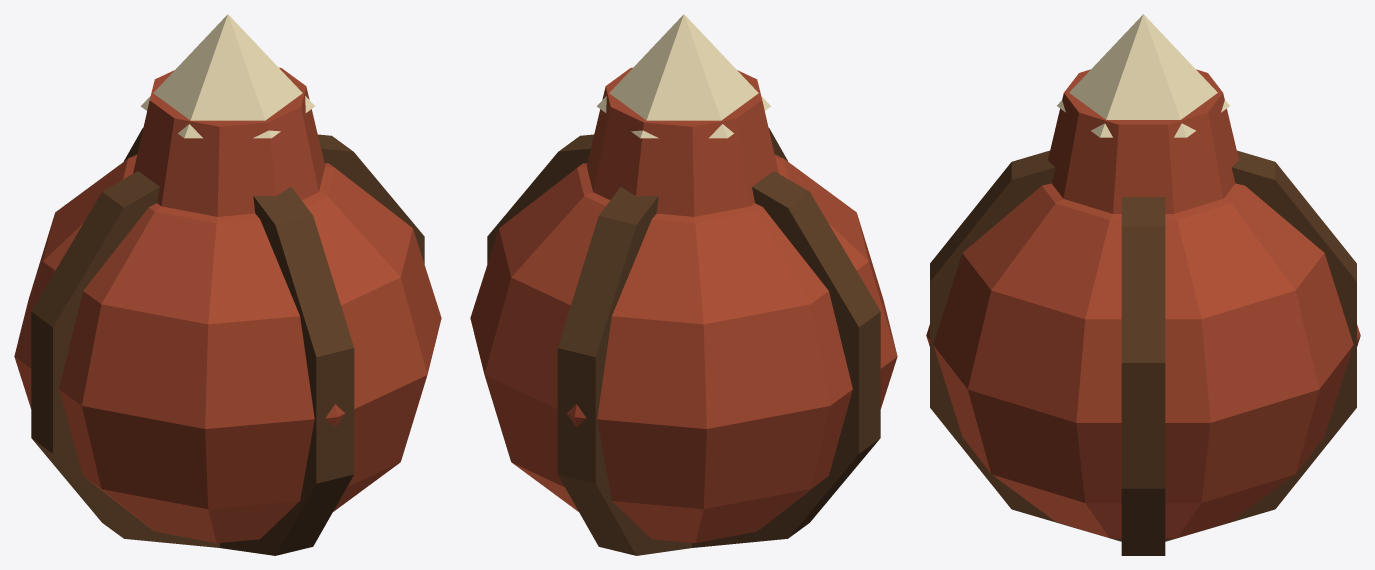
Rendered from siege_fire_pot.glb.
3 views of the same model, side by side, from view 1: azimuth 30°, elevation 25°; view 2: azimuth 150°, elevation 25°; view 3: azimuth 270°, elevation 25° (orthographic).
Visible parts, largest first — view 1: siege_fire_pot; view 2: siege_fire_pot; view 3: siege_fire_pot.
Boxes of the visible parts, left/top/right/bottom form: siege_fire_pot: left=14, top=14, right=441, bottom=555; siege_fire_pot: left=470, top=14, right=897, bottom=555; siege_fire_pot: left=926, top=14, right=1360, bottom=555.
Size of the model in its own units: 0.5897 by 0.8 by 0.6.
